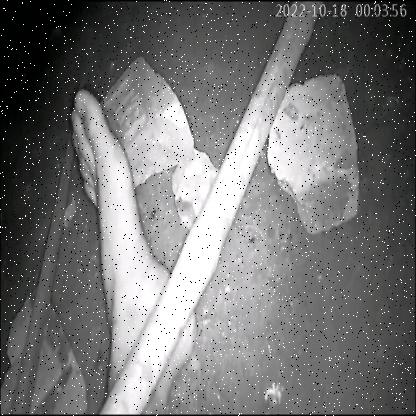leg: (24, 77, 198, 416)
